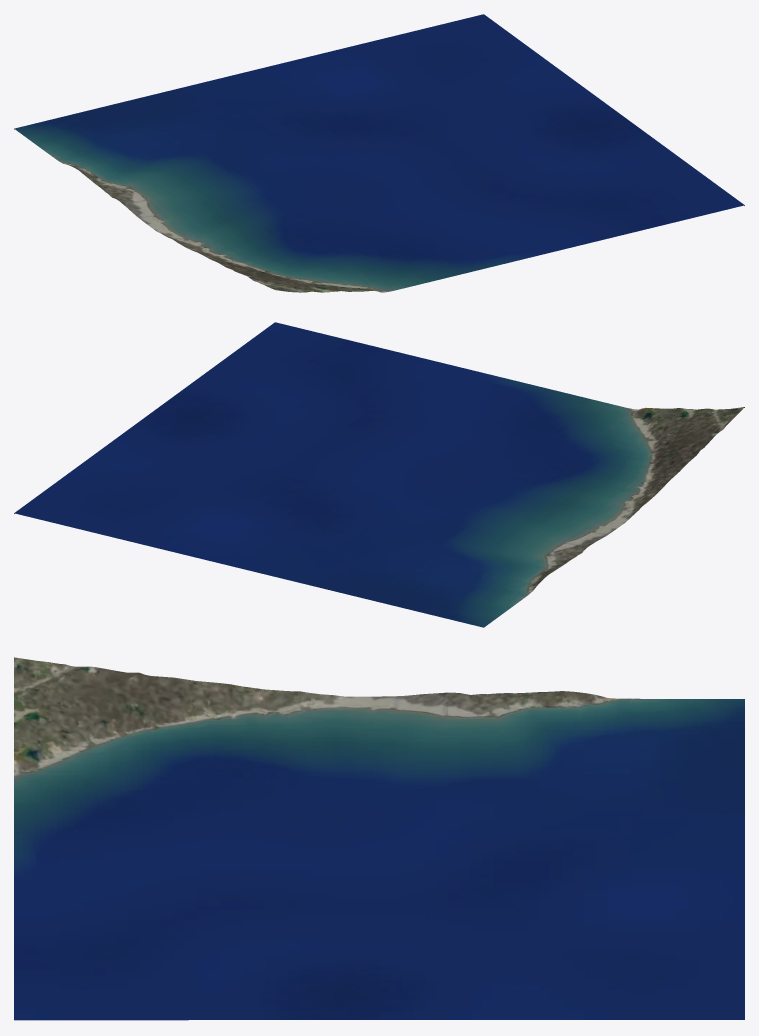
3 views of the same model, one above another, from view 1: azimuth 30°, elevation 25°; view 2: azimuth 150°, elevation 25°; view 3: azimuth 270°, elevation 25° (orthographic). The views are drawn at different scales.
Bounding box in the file's own units: 500 × 31.44 × 481.
1 material, 1 textured.
